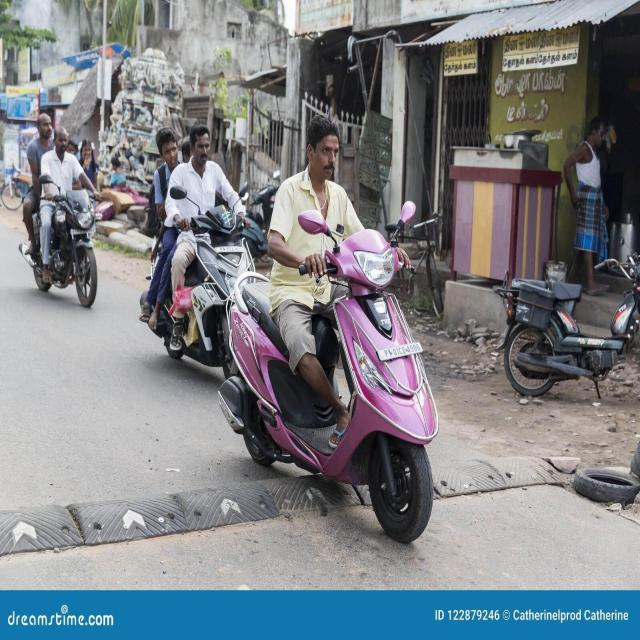motorcycle: (219, 116, 439, 543), (140, 124, 252, 376), (494, 252, 640, 396), (24, 114, 100, 306)
